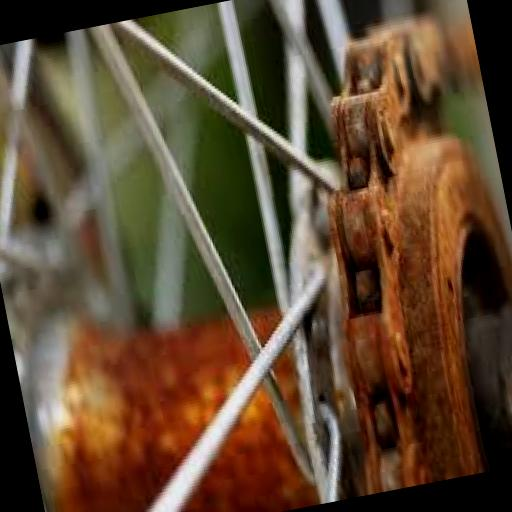segmentation: (328, 20, 512, 492), (49, 320, 246, 512), (183, 387, 316, 512)
